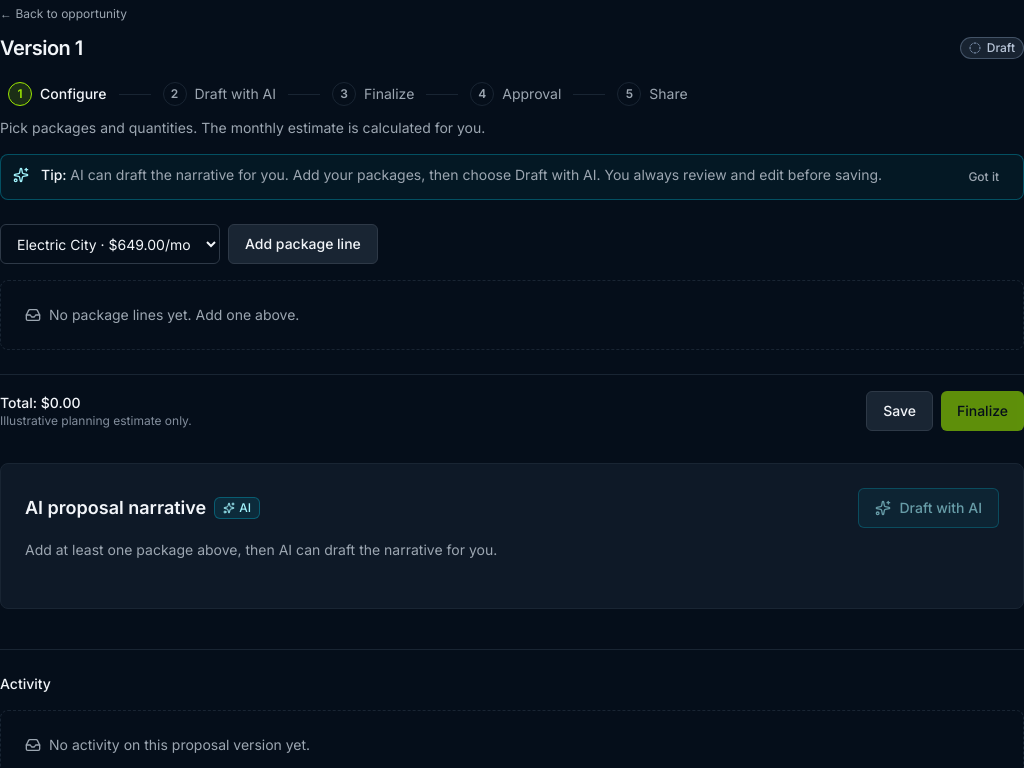
Test case: ProposalBuilder › sends nothing when the finalize confirmation is cancelled
This screenshot has width=1024, height=768.
Click the button "Add package line" at (303, 244), box x1=228 y1=224 x2=378 y2=264
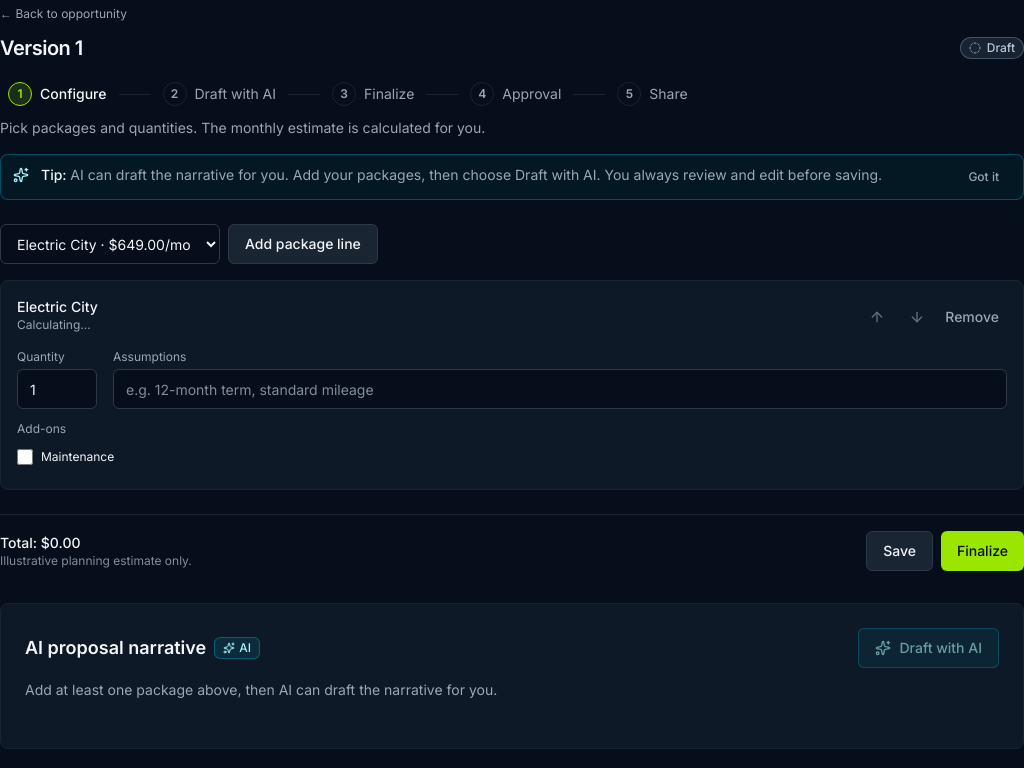
Click the button "Finalize" at (982, 551), box x1=941 y1=531 x2=1023 y2=571
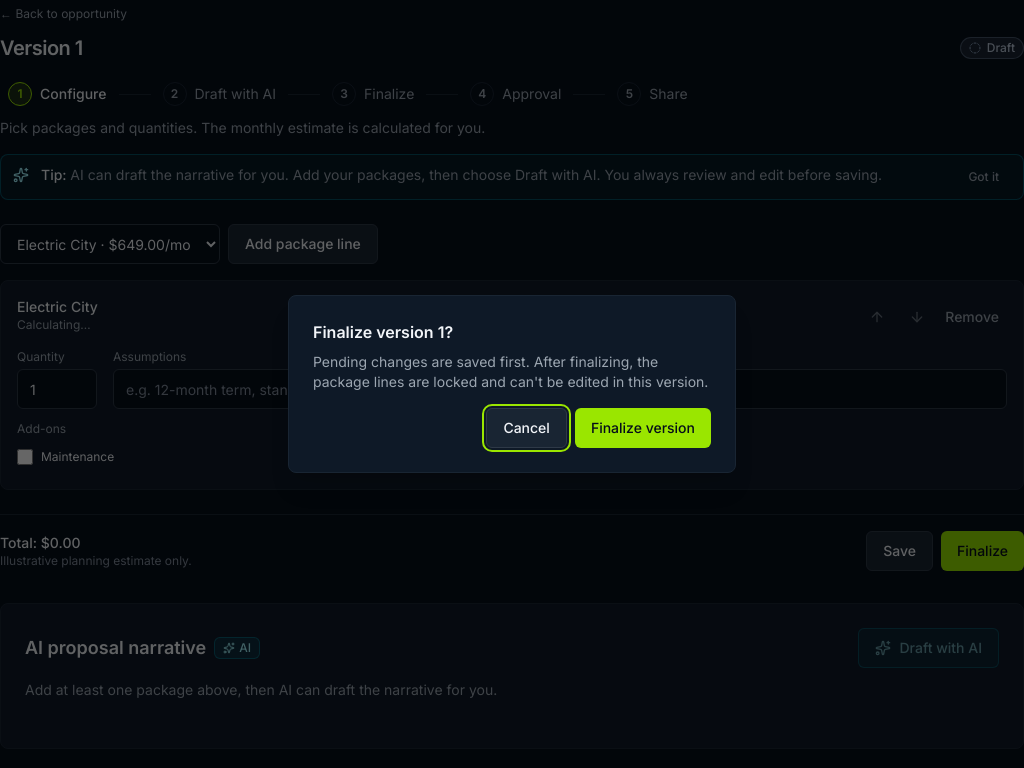
Click the button "Cancel" at (527, 428), box x1=486 y1=408 x2=567 y2=448
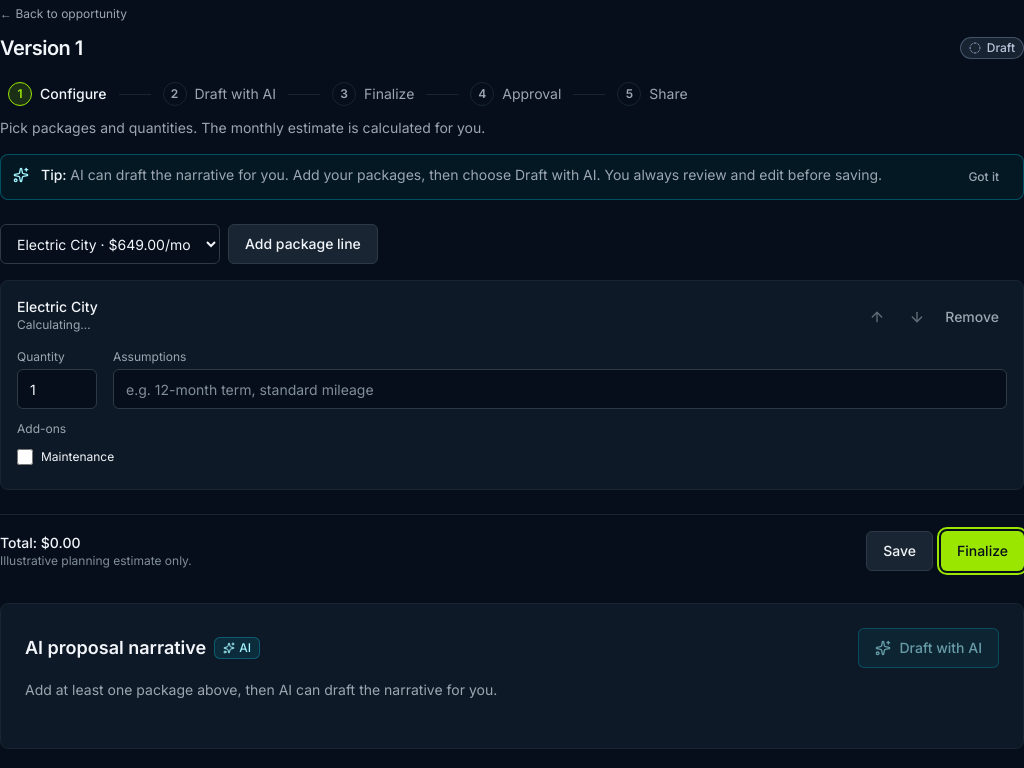
Expected: the dialog is gone
